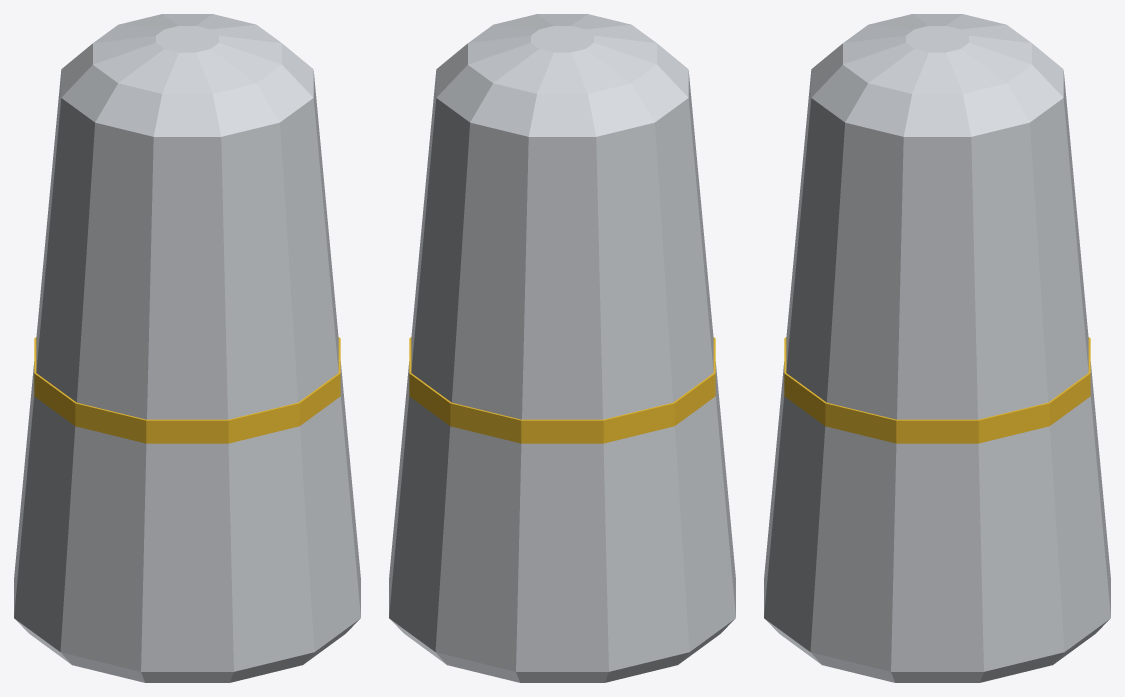
Rendered from tree.glb.
3 renders of one model, left to right at view 1: azimuth 30°, elevation 25°; view 2: azimuth 150°, elevation 25°; view 3: azimuth 270°, elevation 25°, orthographic.
Parts seen in each view (by area): view 1: tree; view 2: tree; view 3: tree.
Part boxes in pixels (left/top/right/bottom): tree: left=14, top=14, right=360, bottom=682; tree: left=389, top=14, right=735, bottom=682; tree: left=764, top=14, right=1110, bottom=682.
Bounding box in the file's own units: 1.06 × 1.95 × 1.06.
